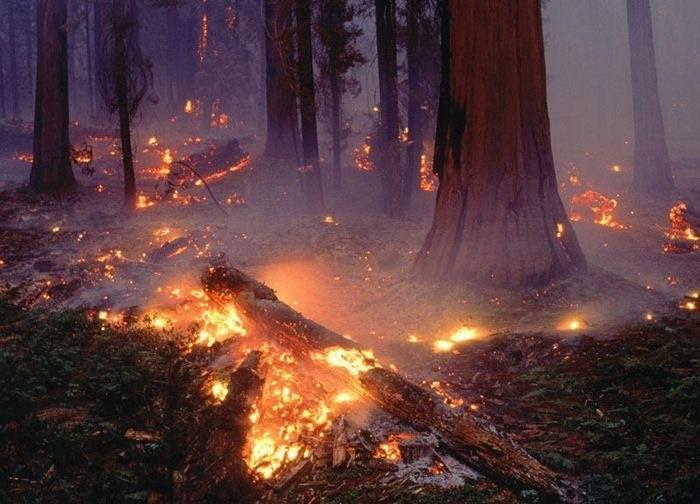fire: (156, 247, 410, 485), (103, 91, 269, 213), (40, 217, 156, 334), (556, 163, 627, 235), (643, 198, 700, 255), (406, 313, 475, 359), (635, 275, 700, 322), (399, 128, 440, 199), (341, 117, 384, 175)
